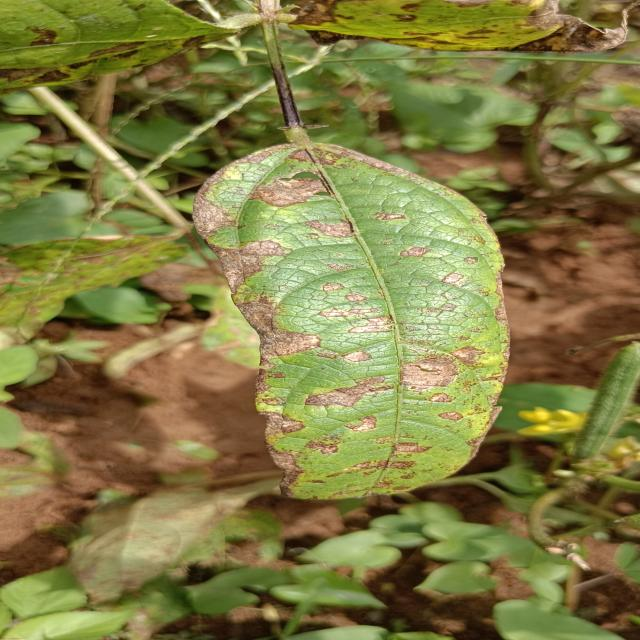Black gram_leaf spot: (188, 141, 506, 497)
